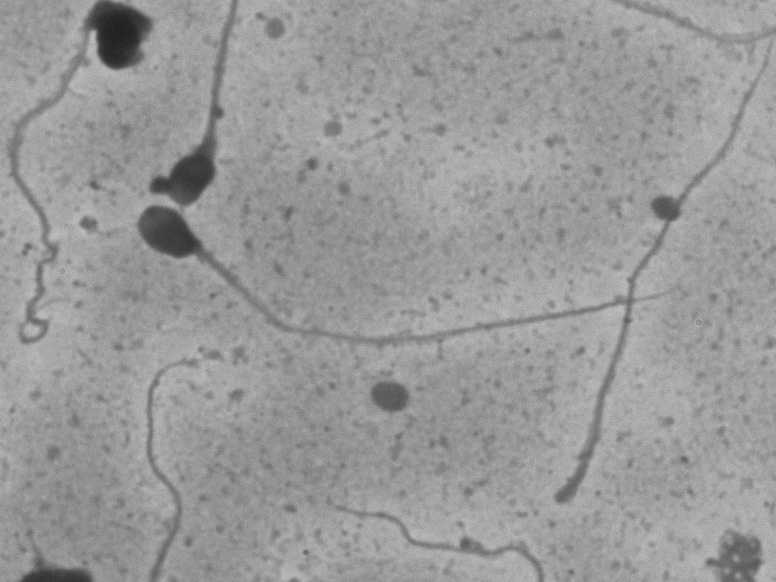Abnormal: (122, 191, 695, 361), (20, 5, 171, 117)
